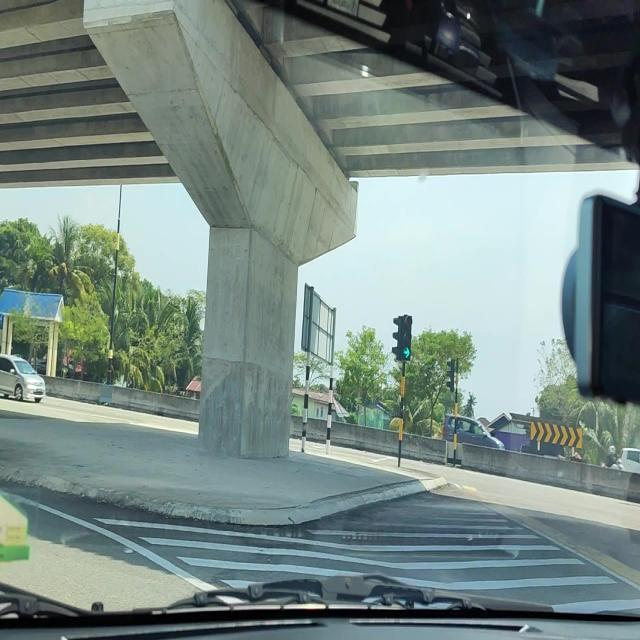green_light: (400, 314, 412, 360)
